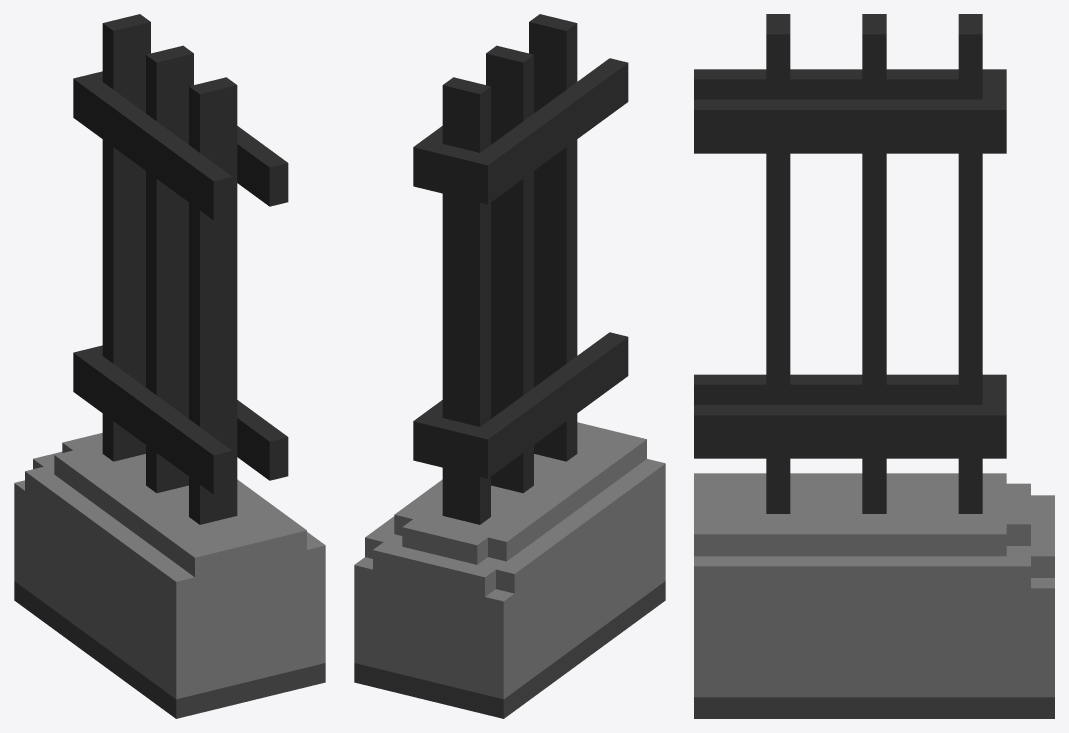
Rendered from Park_Fence_End.glb.
3 views of the same model, side by side, from view 1: azimuth 30°, elevation 25°; view 2: azimuth 150°, elevation 25°; view 3: azimuth 270°, elevation 25° (orthographic). The views are drawn at different scales.
Visible parts, largest first — view 1: Park_Fence_End; view 2: Park_Fence_End; view 3: Park_Fence_End.
Part boxes in pixels (left/top/right/bottom): Park_Fence_End: left=14, top=14, right=325, bottom=718; Park_Fence_End: left=354, top=14, right=665, bottom=718; Park_Fence_End: left=694, top=14, right=1054, bottom=718.
Size of the model in its own units: 0.8 by 3 by 1.5.
1 material, 1 textured.
